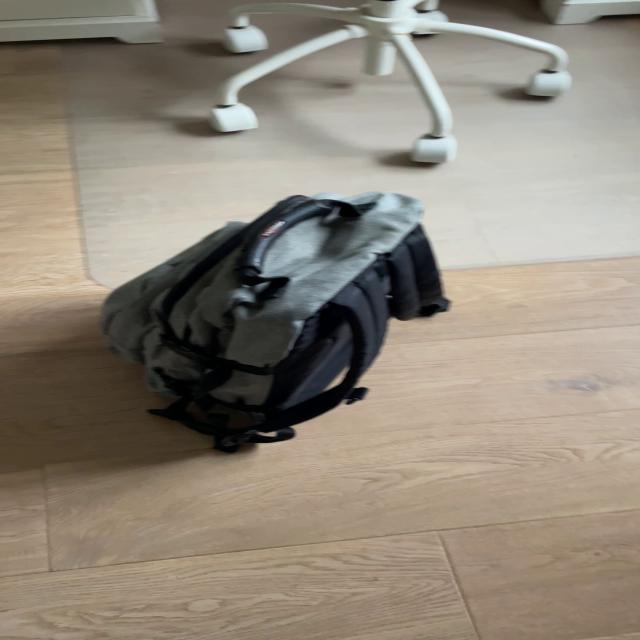backpack: (86, 176, 457, 456)
